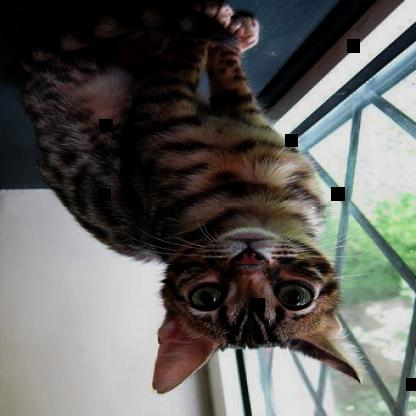cat: (19, 0, 362, 394)
